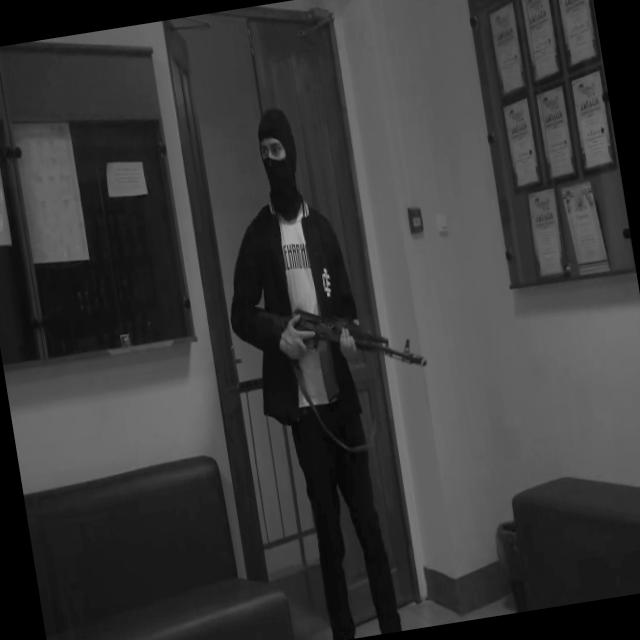gun: (250, 280, 431, 414)
person with a gun: (198, 91, 468, 640)
